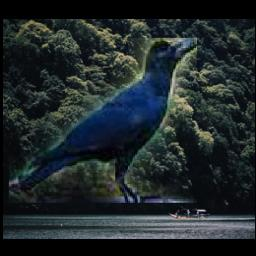Crow: (10, 38, 198, 203)
